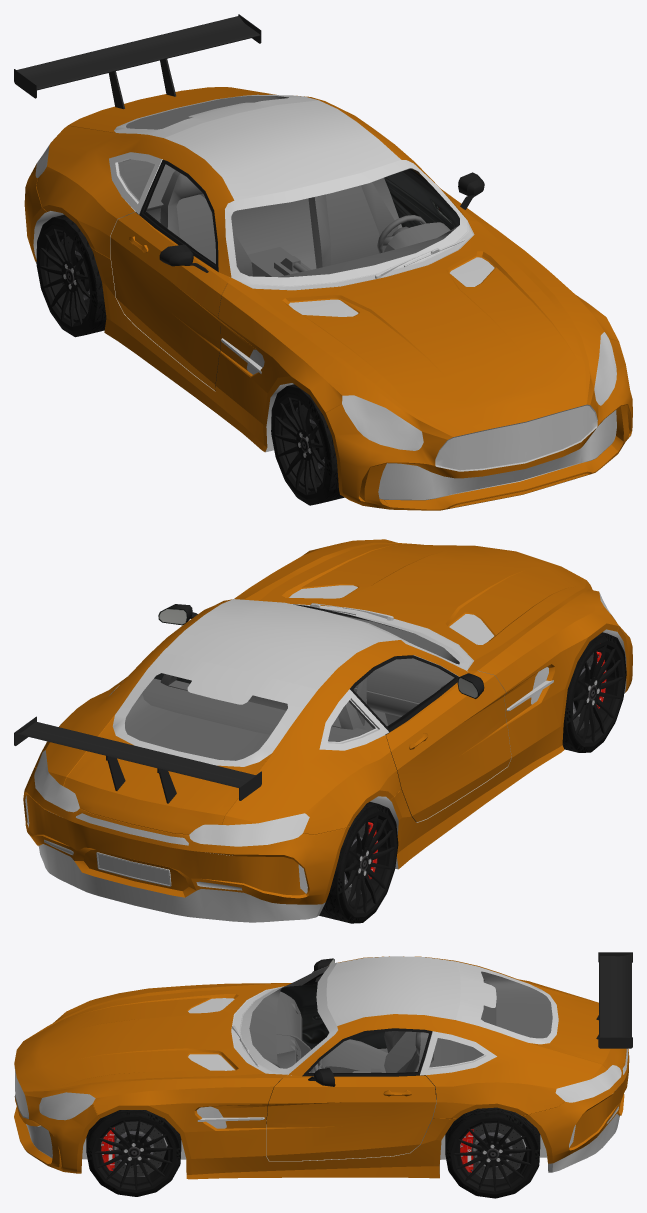
Rendered from Car 5.FBX.
3 renders of one model, top to bottom at view 1: azimuth 30°, elevation 25°; view 2: azimuth 150°, elevation 25°; view 3: azimuth 270°, elevation 25°, orthographic. The views are drawn at different scales.
Parts seen in each view (by area): view 1: Body, Door_R, Wing, Wheel_BR, Wheel_FR, Door_L; view 2: Body, Door_R, Wheel_BR, Wheel_FR, Wing, Door_L; view 3: Body, Door_L, Wheel_BL, Wheel_FL, Wing, Door_R, brake_BL, brake_FL.
Part boxes in pixels (x1=…): Body: x1=24, y1=87, x2=632, y2=510; Door_R: x1=110, y1=159, x2=227, y2=390; Wing: x1=14, y1=14, x2=261, y2=109; Wheel_BR: x1=36, y1=214, x2=106, y2=337; Wheel_FR: x1=271, y1=384, x2=344, y2=505; Door_L: x1=384, y1=168, x2=493, y2=229; Body: x1=23, y1=539, x2=632, y2=922; Door_R: x1=350, y1=655, x2=511, y2=822; Wheel_BR: x1=319, y1=802, x2=398, y2=923; Wheel_FR: x1=562, y1=632, x2=626, y2=752; Wing: x1=14, y1=716, x2=261, y2=803; Door_L: x1=119, y1=604, x2=197, y2=683; Body: x1=14, y1=956, x2=629, y2=1179; Door_L: x1=266, y1=1028, x2=436, y2=1160; Wheel_BL: x1=445, y1=1107, x2=540, y2=1198; Wheel_FL: x1=86, y1=1110, x2=181, y2=1196; Wing: x1=596, y1=952, x2=632, y2=1048; Door_R: x1=280, y1=958, x2=386, y2=1049; brake_BL: x1=460, y1=1123, x2=525, y2=1178; brake_FL: x1=101, y1=1121, x2=166, y2=1176.
Bounding box in the file's own units: 163 × 100 × 353.
